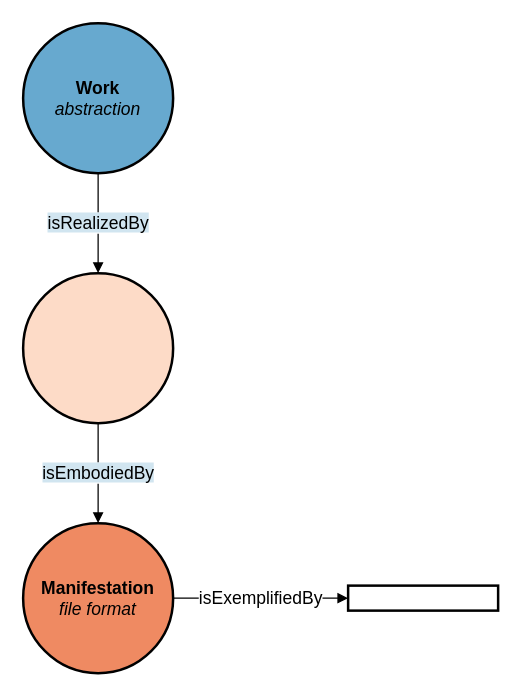
This 520x695 diagram has some shape labels left out. Here are the shapes that lost their labels. From the top down, the centre of each, then its label:
the point at 97,347: Expression language
the point at 422,597: xsd:string
